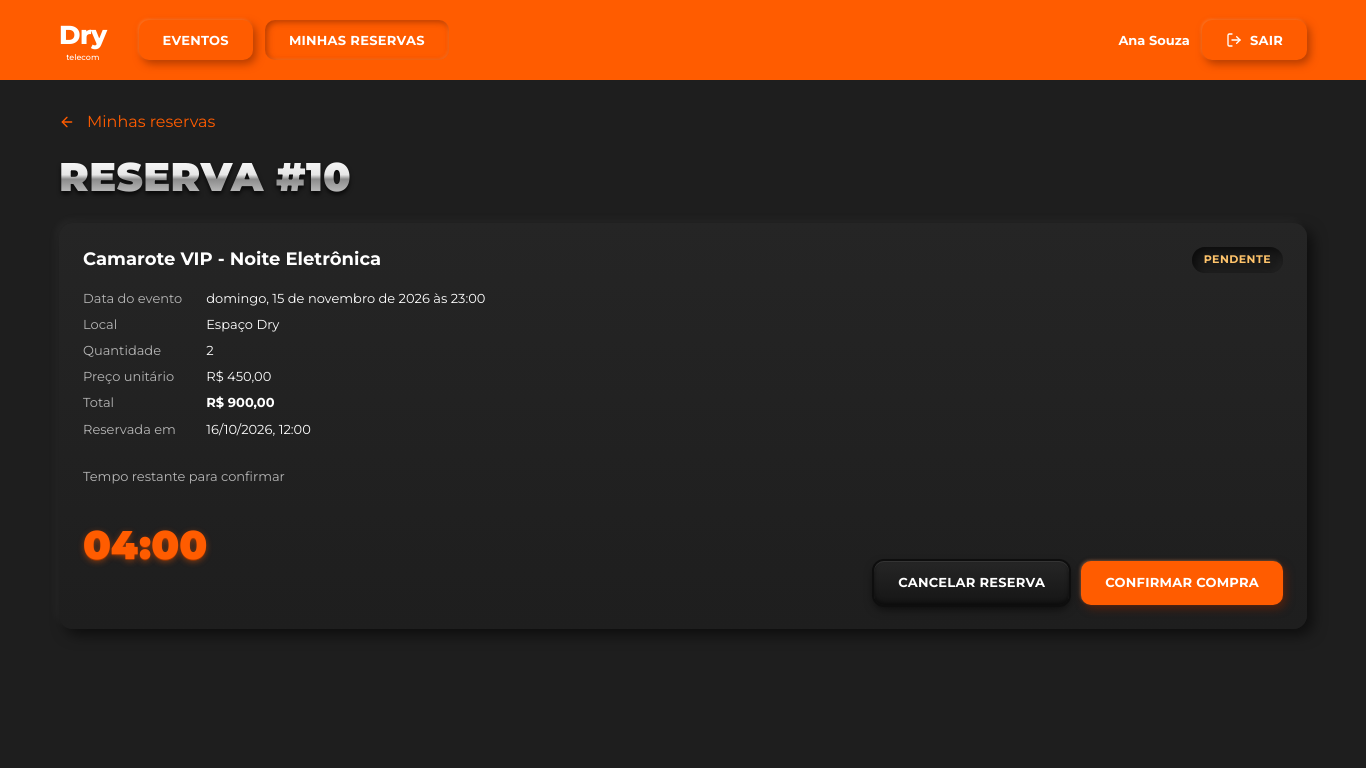
Test case: fluxos da interface › confirmar uma reserva pendente mostra o sucesso
The width and height of the screenshot is (1366, 768).
expect the text "04:00" is shown: met, box [83,525,285,565]
Step 1. Click the button "Confirmar compra" → {"x": 1182, "y": 583}, box [1081,561,1283,605]
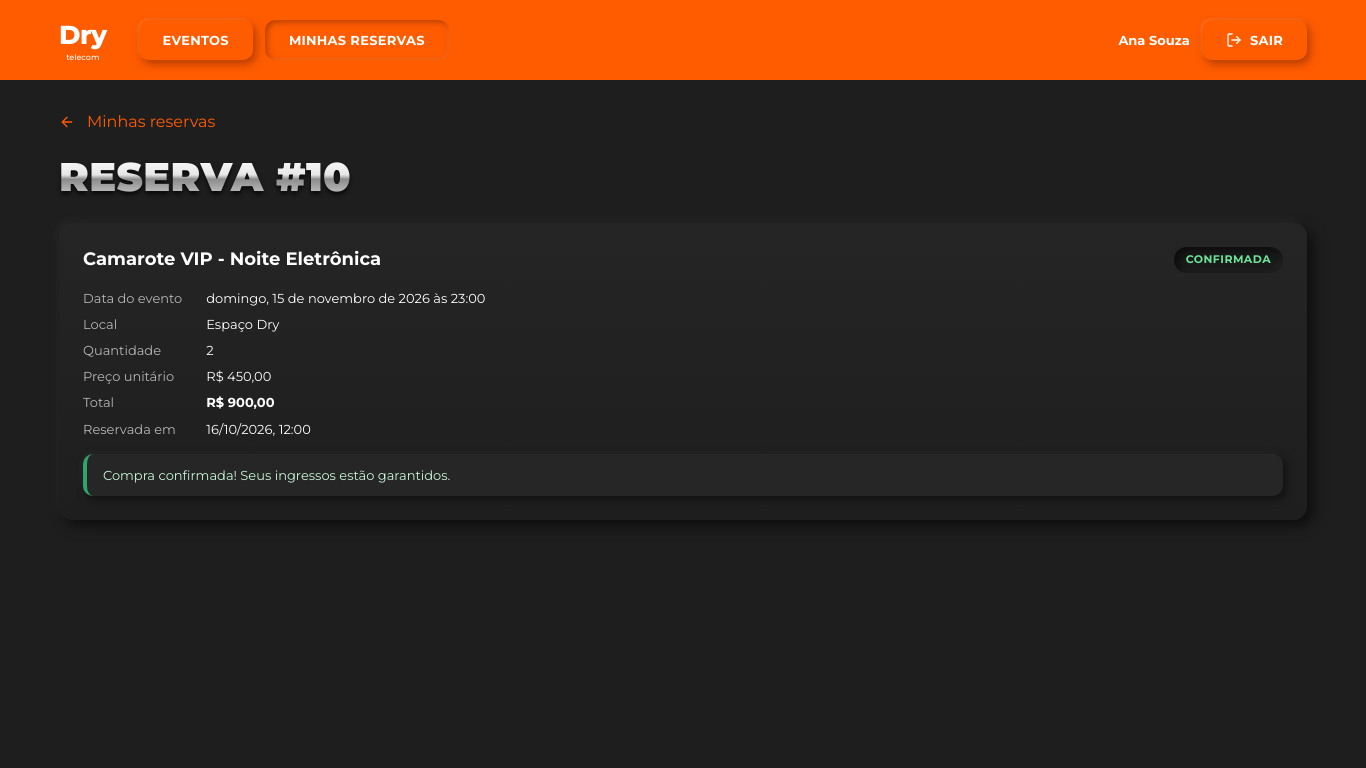
expect the message shows "Compra confirmada!": met, box [103,467,450,483]
expect the text "Confirmada" is shown: met, box [1174,247,1283,273]
